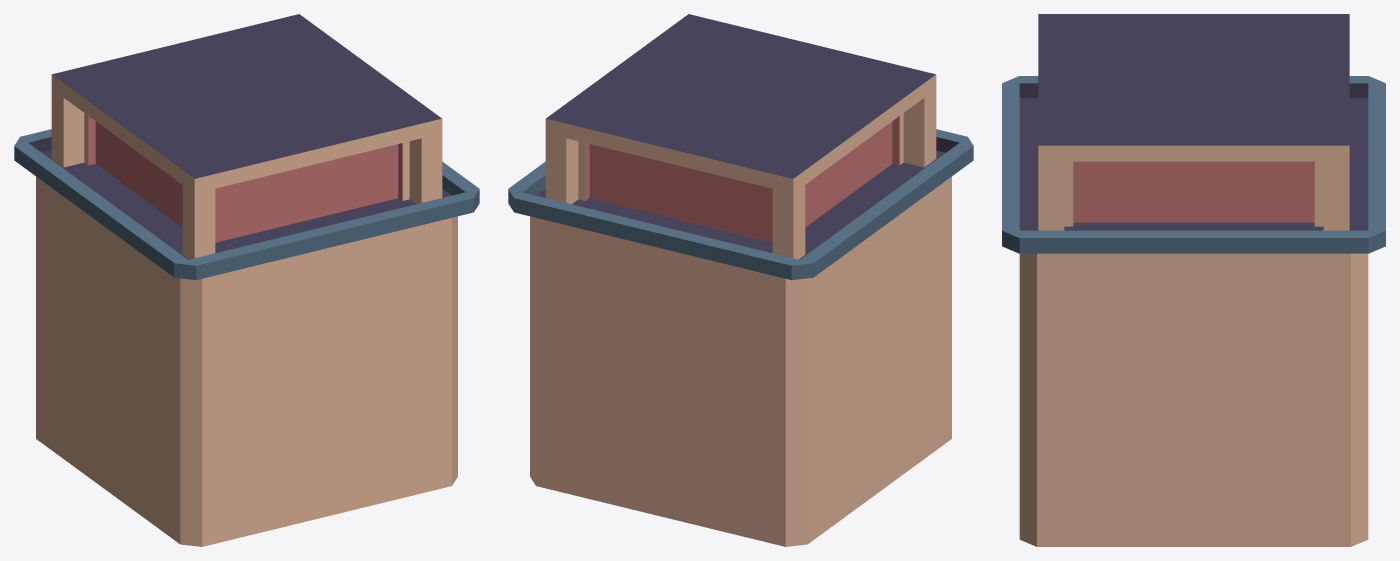
Rendered from ModuloBase01.fbx.
3 renders of one model, left to right at view 1: azimuth 30°, elevation 25°; view 2: azimuth 150°, elevation 25°; view 3: azimuth 270°, elevation 25°, orthographic. The views are drawn at different scales.
Parts seen in each view (by area): view 1: Cube.219; view 2: Cube.219; view 3: Cube.219.
Boxes of the visible parts, bbox=[...] form: Cube.219: bbox=[14, 14, 479, 546]; Cube.219: bbox=[508, 14, 973, 546]; Cube.219: bbox=[1002, 14, 1385, 546].
Size of the model in its own units: 220 by 249 by 220.
